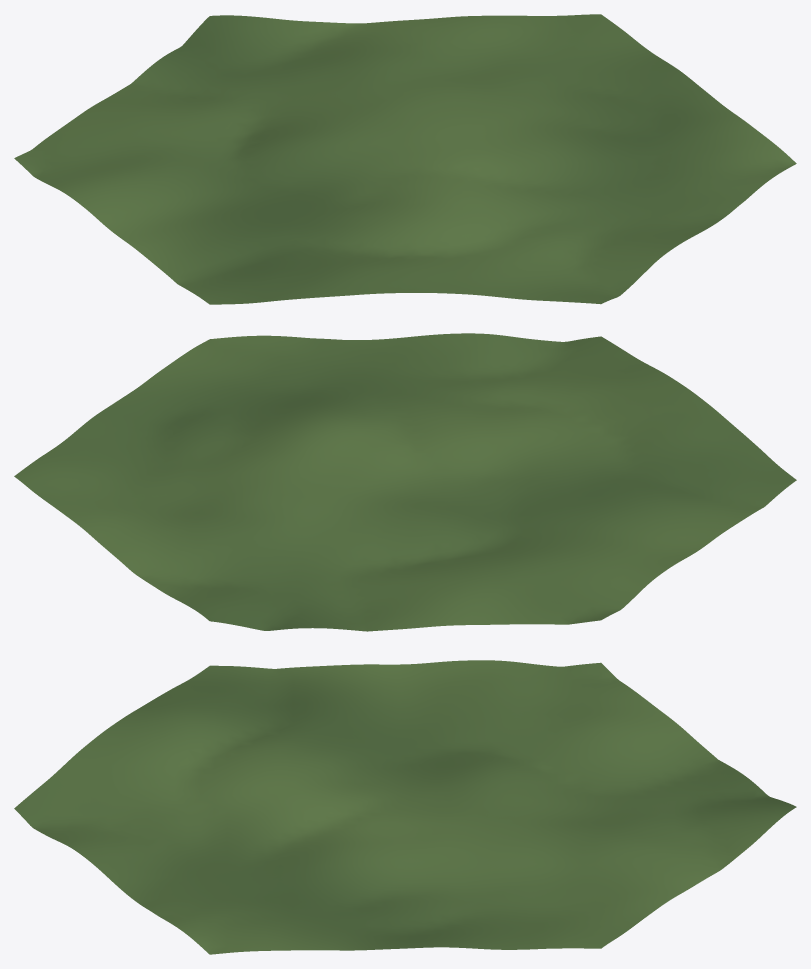
The picture shows the model from 3 angles, top to bottom: view 1: azimuth 30°, elevation 25°; view 2: azimuth 150°, elevation 25°; view 3: azimuth 270°, elevation 25°; orthographic projection.
Visible parts, largest first — view 1: JS_-2_13; view 2: JS_-2_13; view 3: JS_-2_13.
Part boxes in pixels (<box>): JS_-2_13: <box>14,14,796,304</box>; JS_-2_13: <box>14,333,796,631</box>; JS_-2_13: <box>14,660,796,954</box>.
Bounding box in the file's own units: 4330 × 157 × 5000.
